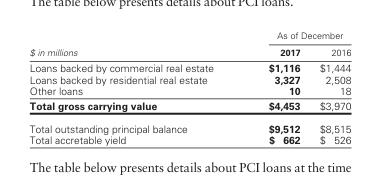table: (28, 29, 350, 145)
table column: (28, 29, 240, 145), (240, 29, 309, 145), (309, 29, 350, 145)
table column header: (28, 29, 350, 59)
table row: (28, 97, 350, 116), (28, 116, 350, 133), (28, 43, 350, 59), (28, 29, 350, 43), (28, 59, 350, 73), (28, 84, 350, 97), (28, 133, 350, 145), (28, 73, 350, 84)
table spanning cell: (28, 29, 240, 59), (240, 29, 350, 43)
